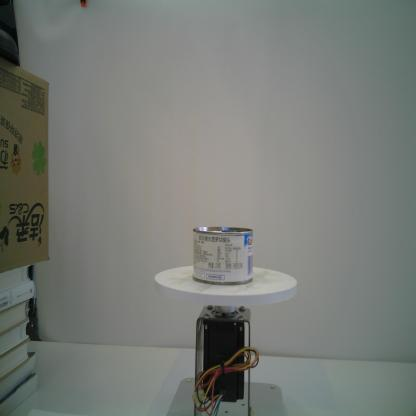Canned Food: (192, 226, 254, 286)
